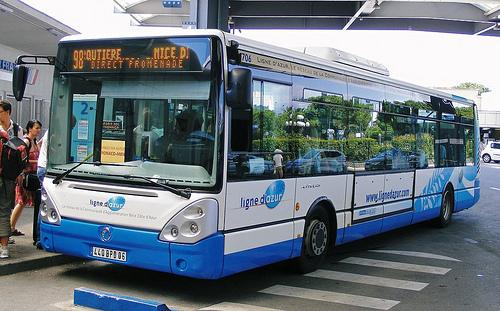bus: (23, 27, 470, 236)
